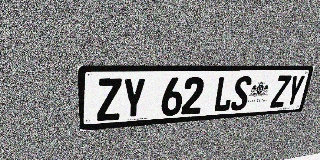2: (181, 77, 205, 115)
6: (161, 77, 185, 116)
L: (212, 76, 236, 112)
S: (230, 76, 253, 111)
Y: (122, 78, 146, 119), (284, 75, 306, 107)
Z: (96, 78, 122, 121), (270, 75, 292, 108)
